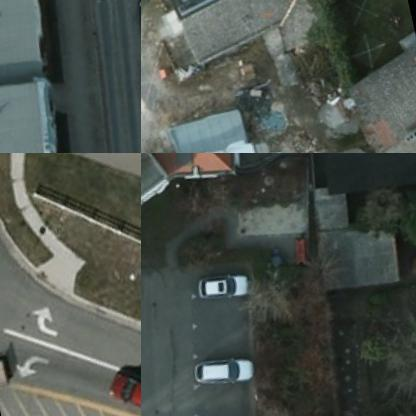car: (183, 350, 253, 394), (96, 358, 140, 415), (188, 270, 248, 310), (127, 0, 140, 52), (130, 52, 140, 113)
